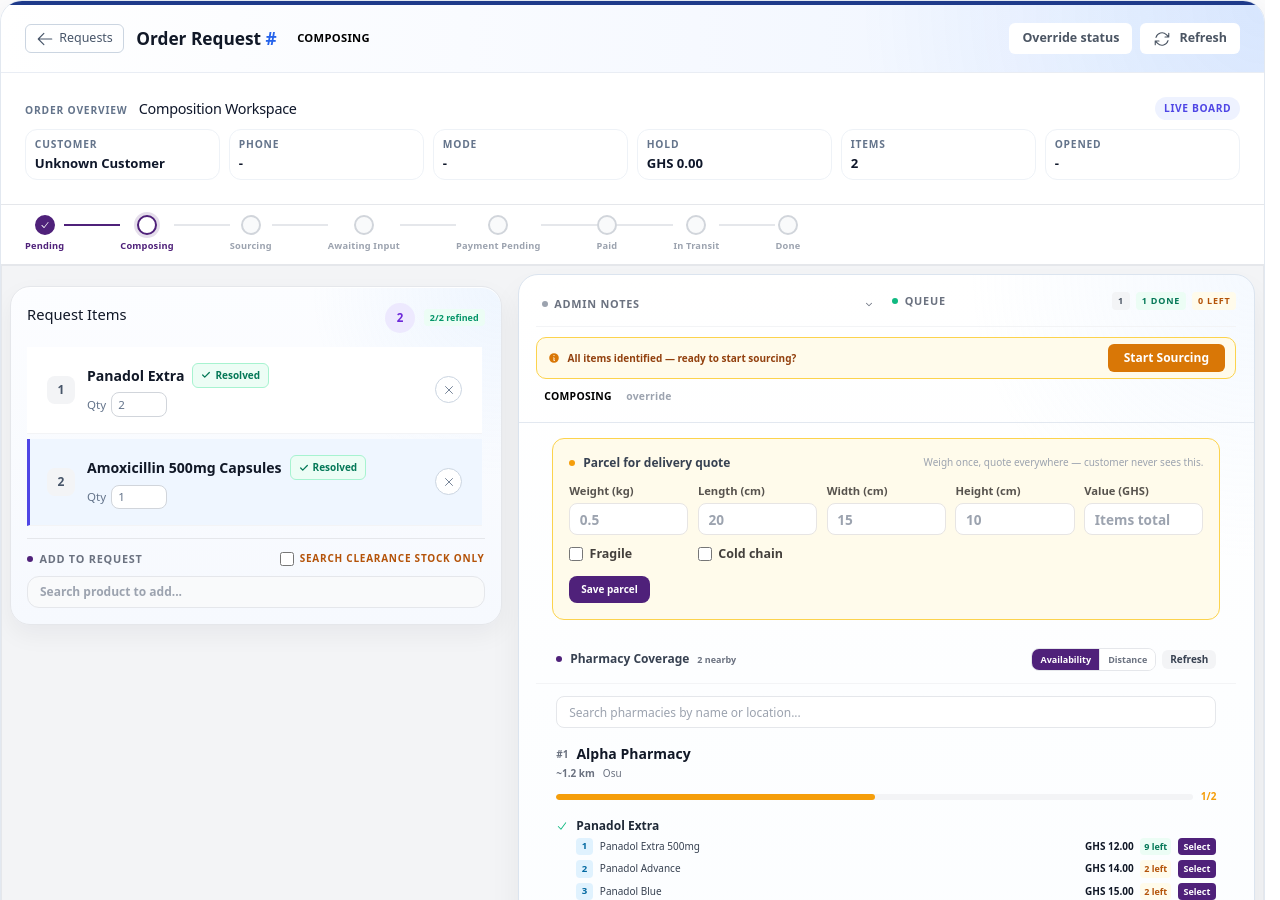
coverage matrix: listing › filters by name or location, and says when nothing matches
Type "madina" into the field with placeholder "Search pharmacies by name or location..." at [886, 712], box [556,696,1216,728]
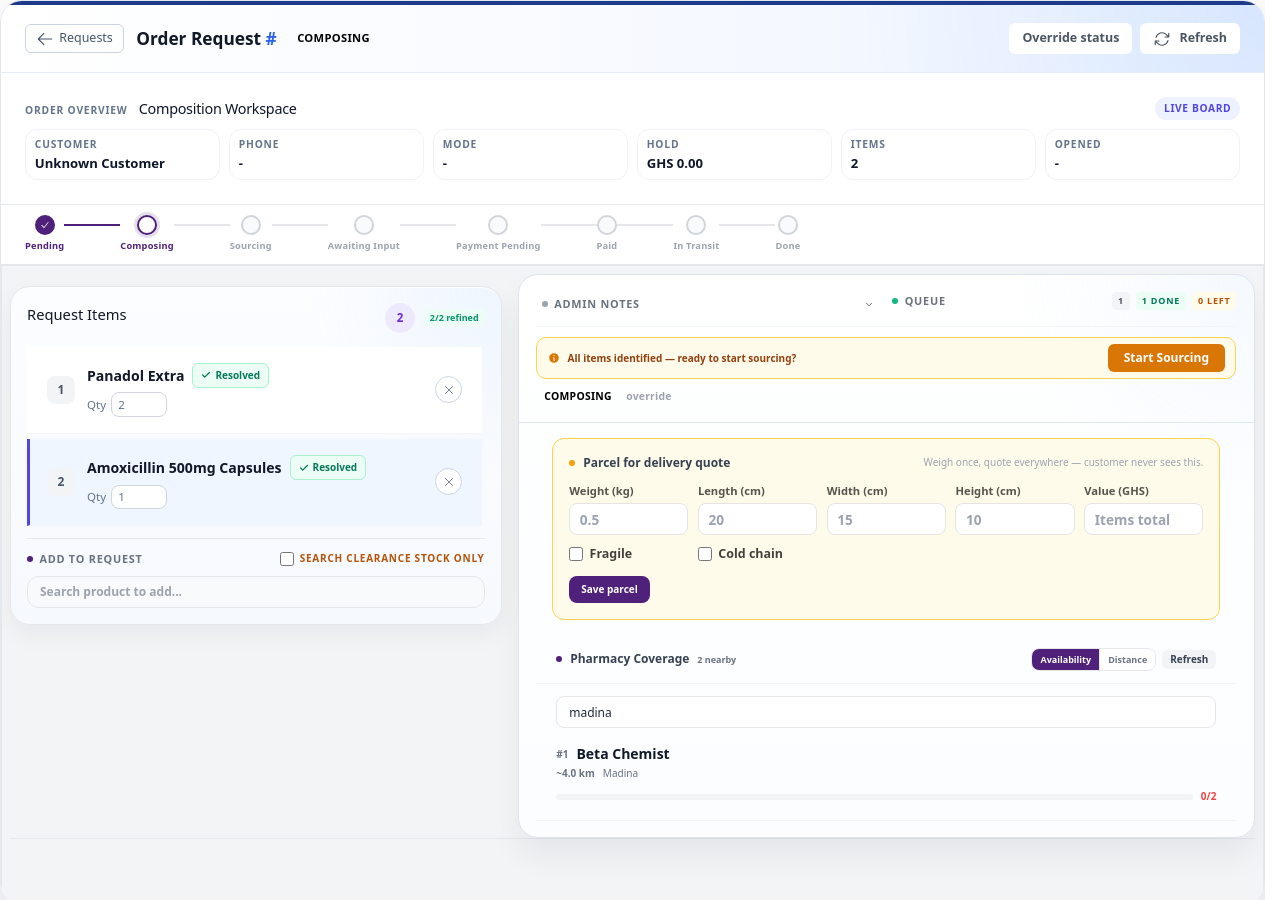
Replace the text in the field with placeholder "Search pharmacies by name or location..." with "zzz" at [886, 712], box [556,696,1216,728]
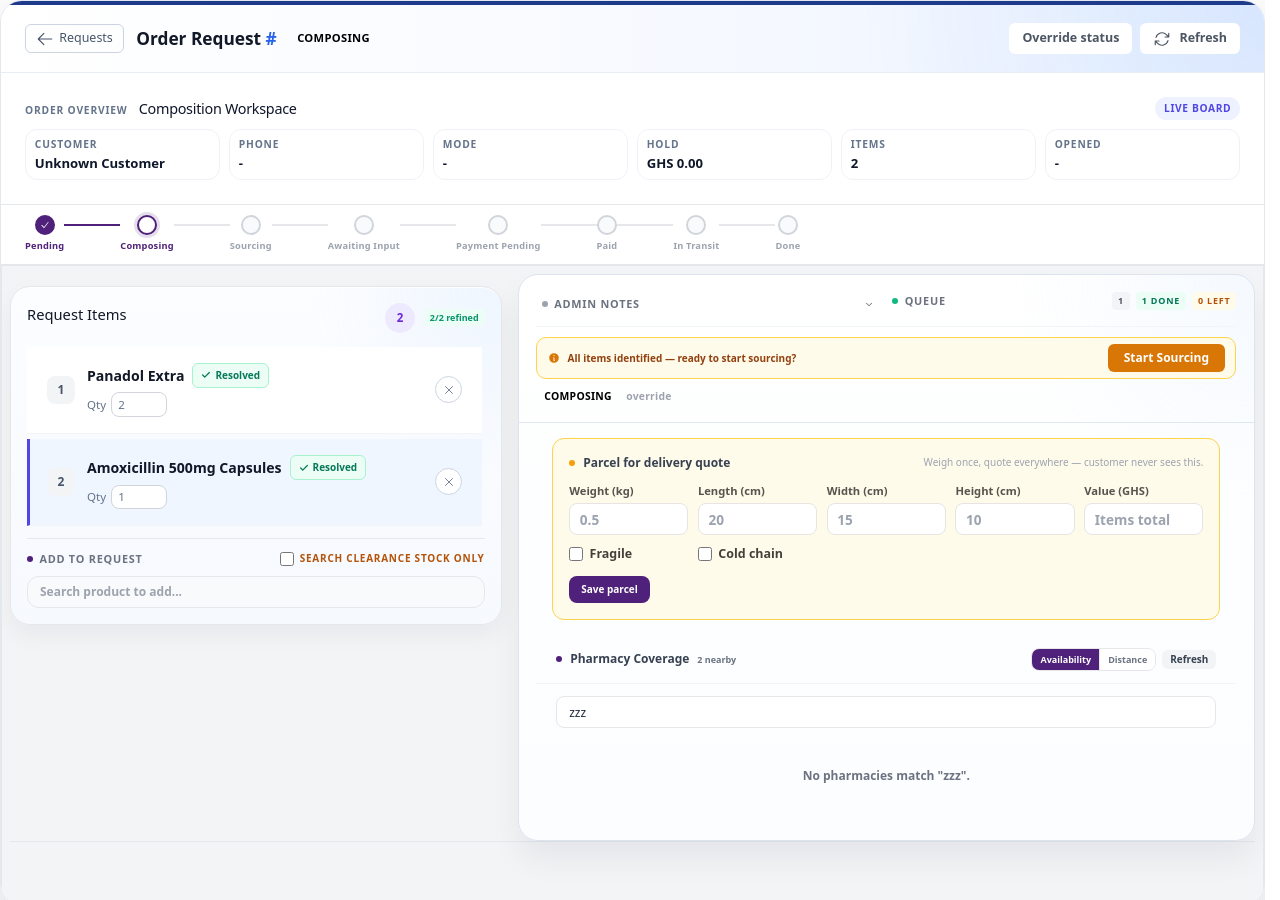
Expected: the text "No pharmacies match \"zzz\"." is shown, [803,768,970,784]
